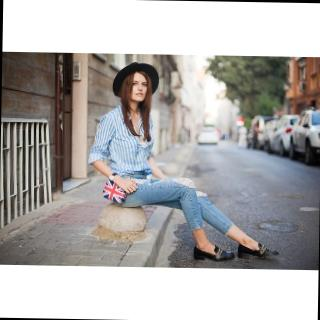loafers: (190, 240, 235, 264), (236, 236, 280, 259)
